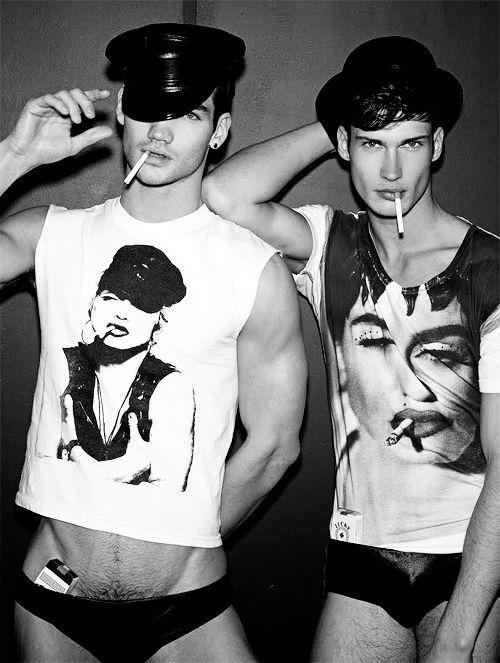cigarette: (123, 151, 151, 184), (395, 192, 404, 240)
